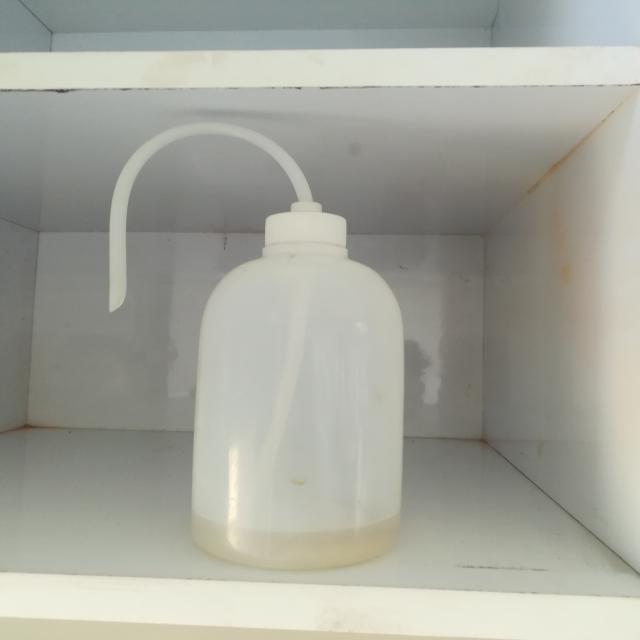Wash_Bottle: (76, 81, 450, 595)
